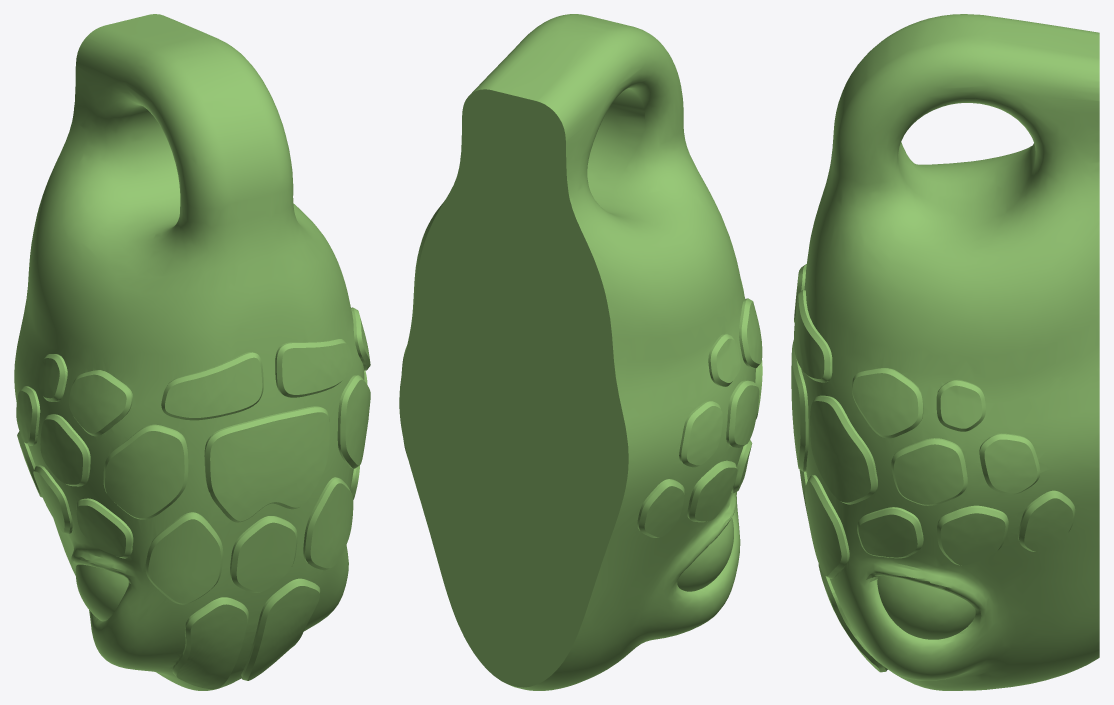
3 views of the same model, side by side, from view 1: azimuth 30°, elevation 25°; view 2: azimuth 150°, elevation 25°; view 3: azimuth 270°, elevation 25° (orthographic). The views are drawn at different scales.
Parts seen in each view (by area): view 1: mesh3235; view 2: mesh3235; view 3: mesh3235.
Part boxes in pixels (<box>): mesh3235: <box>14,14,370,690</box>; mesh3235: <box>399,14,762,690</box>; mesh3235: <box>791,14,1099,690</box>.
Size of the model in its own units: 0.0758 by 0.1503 by 0.0638.
